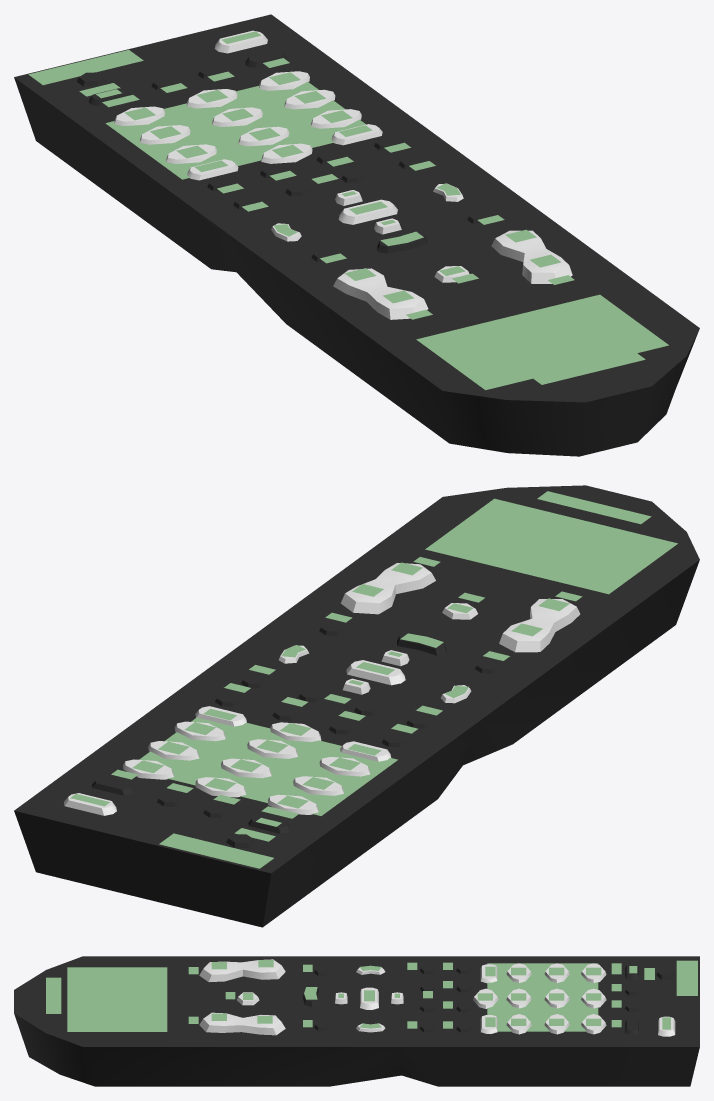
File: HKKT328.FBX
3 views of the same model, one above another, from view 1: azimuth 30°, elevation 25°; view 2: azimuth 150°, elevation 25°; view 3: azimuth 270°, elevation 25° (orthographic). The views are drawn at different scales.
Parts seen in each view (by area): view 1: HKKT328; view 2: HKKT328; view 3: HKKT328.
Boxes of the visible parts, box(x1,y1,x2,y2) form: HKKT328: box(14, 14, 699, 456); HKKT328: box(14, 485, 699, 927); HKKT328: box(14, 956, 699, 1086).
Size of the model in its own units: 4.7 by 15.07 by 1.3.
